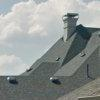Chimney: (54, 7, 80, 44)
